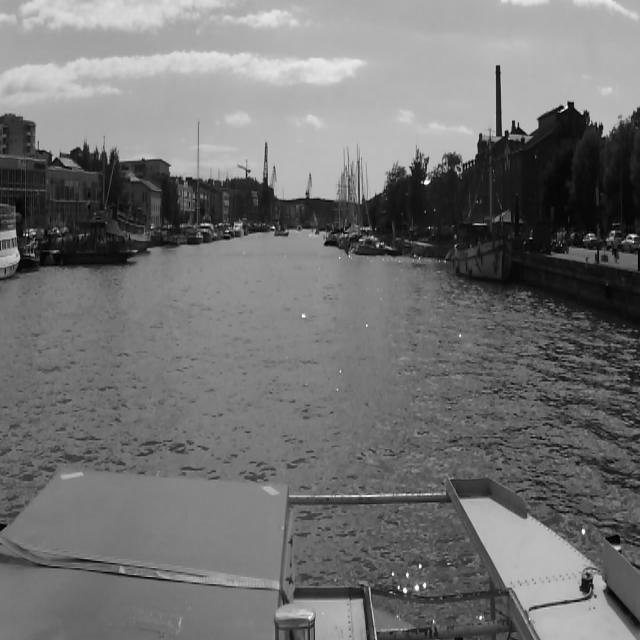ship: (455, 129, 507, 287), (50, 225, 139, 262), (0, 202, 21, 276), (190, 118, 202, 244), (352, 238, 386, 255), (234, 218, 245, 236), (296, 222, 302, 232)
